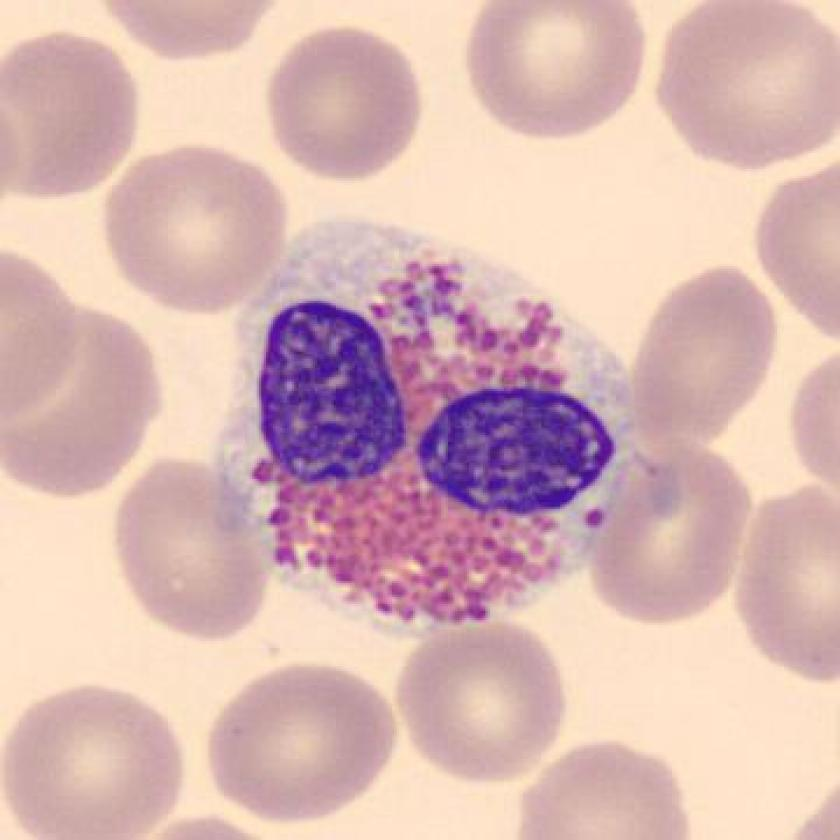eosinophil: (206, 214, 652, 640)
